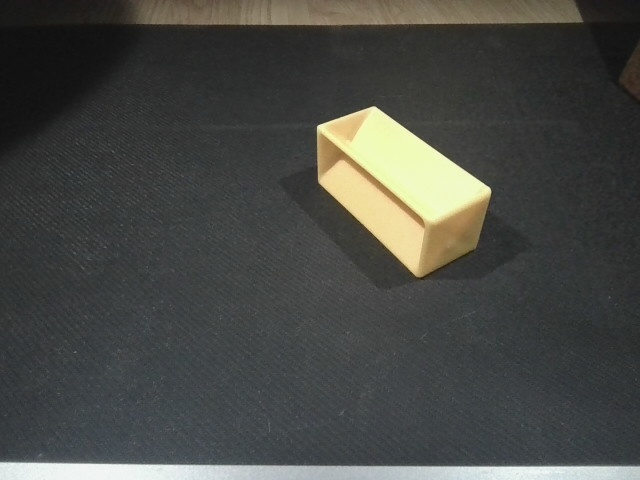YellowSample: (309, 97, 496, 292)
